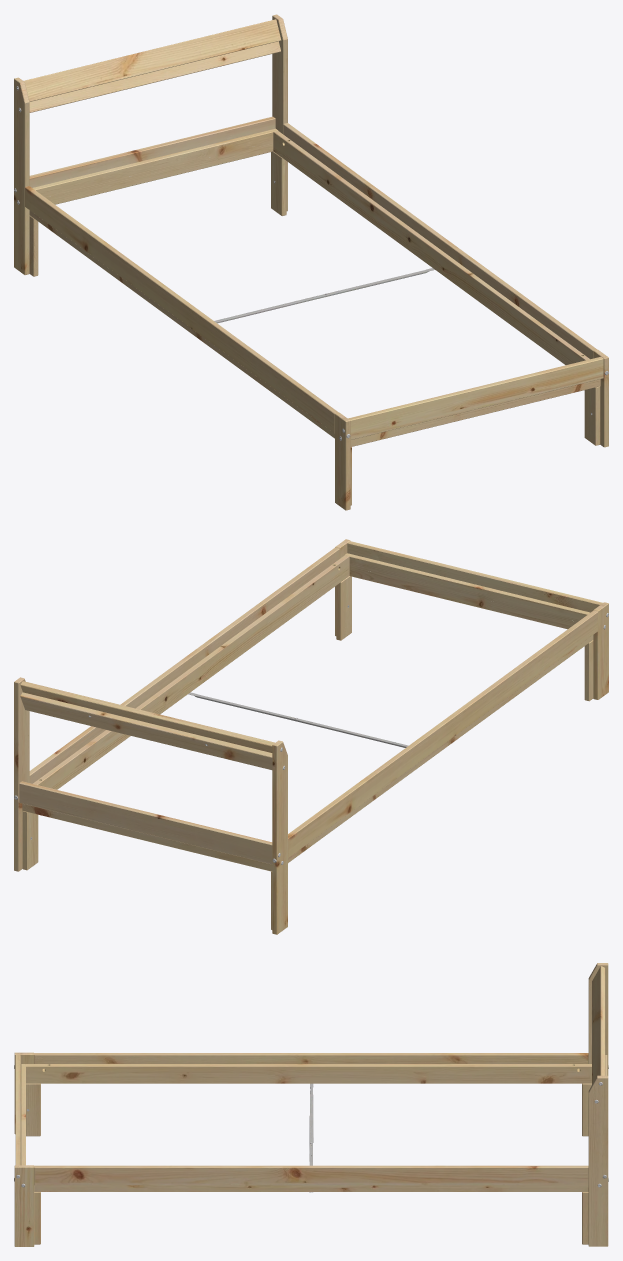
Rendered from 40395245-mini.glb.
The picture shows the model from 3 angles, top to bottom: view 1: azimuth 30°, elevation 25°; view 2: azimuth 150°, elevation 25°; view 3: azimuth 270°, elevation 25°; orthographic projection. The views are drawn at different scales.
Visible parts, largest first — view 1: model; view 2: model; view 3: model.
Boxes of the visible parts, <box> form: model: <box>14,14,608,510</box>; model: <box>14,539,608,934</box>; model: <box>14,963,608,1246</box>.
Size of the model in its own units: 0.9448 by 0.645 by 2.06.
Materials: 1 (1 with a texture image).
